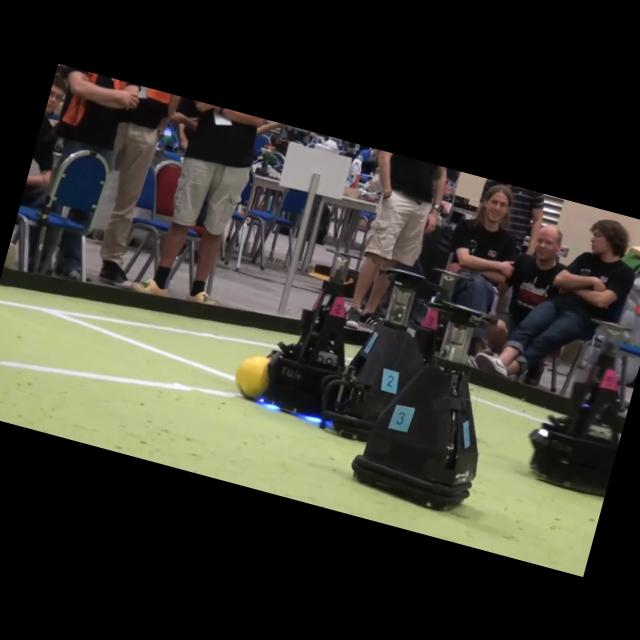ball: (235, 355, 269, 399)
robot: (351, 300, 485, 509), (321, 268, 434, 440), (529, 320, 623, 495), (263, 252, 351, 415)
